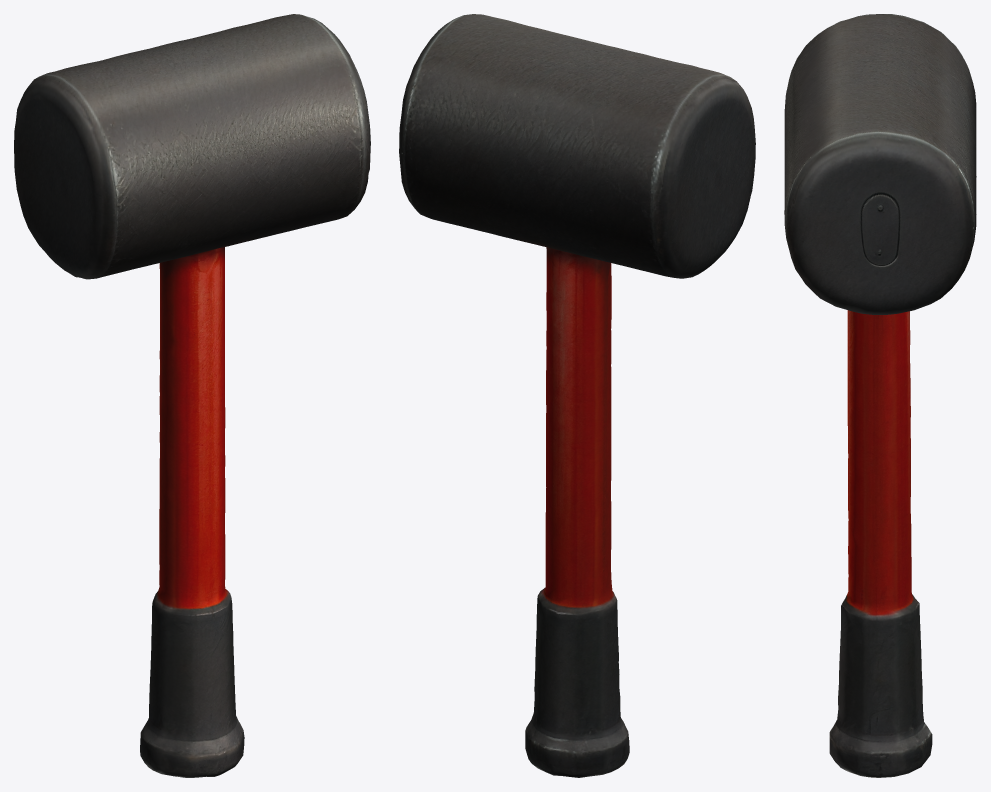
3 views of the same model, side by side, from view 1: azimuth 30°, elevation 25°; view 2: azimuth 150°, elevation 25°; view 3: azimuth 270°, elevation 25° (orthographic). The views are drawn at different scales.
Visible parts, largest first — view 1: input; view 2: input; view 3: input.
Part boxes in pixels (bbox=[...]): input: bbox=[14, 14, 370, 777]; input: bbox=[399, 14, 755, 777]; input: bbox=[784, 14, 976, 777].
Bounding box in the file's own units: 0.4028 × 0.9928 × 0.2507.
1 material, 1 textured.
